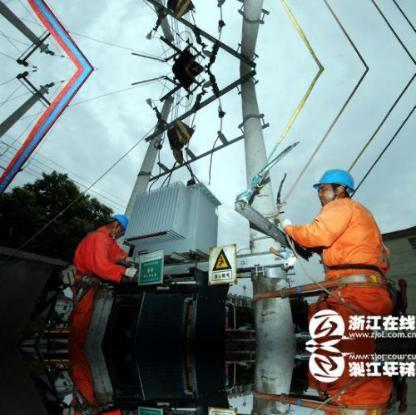helmet: (312, 166, 356, 193), (107, 209, 133, 232)
